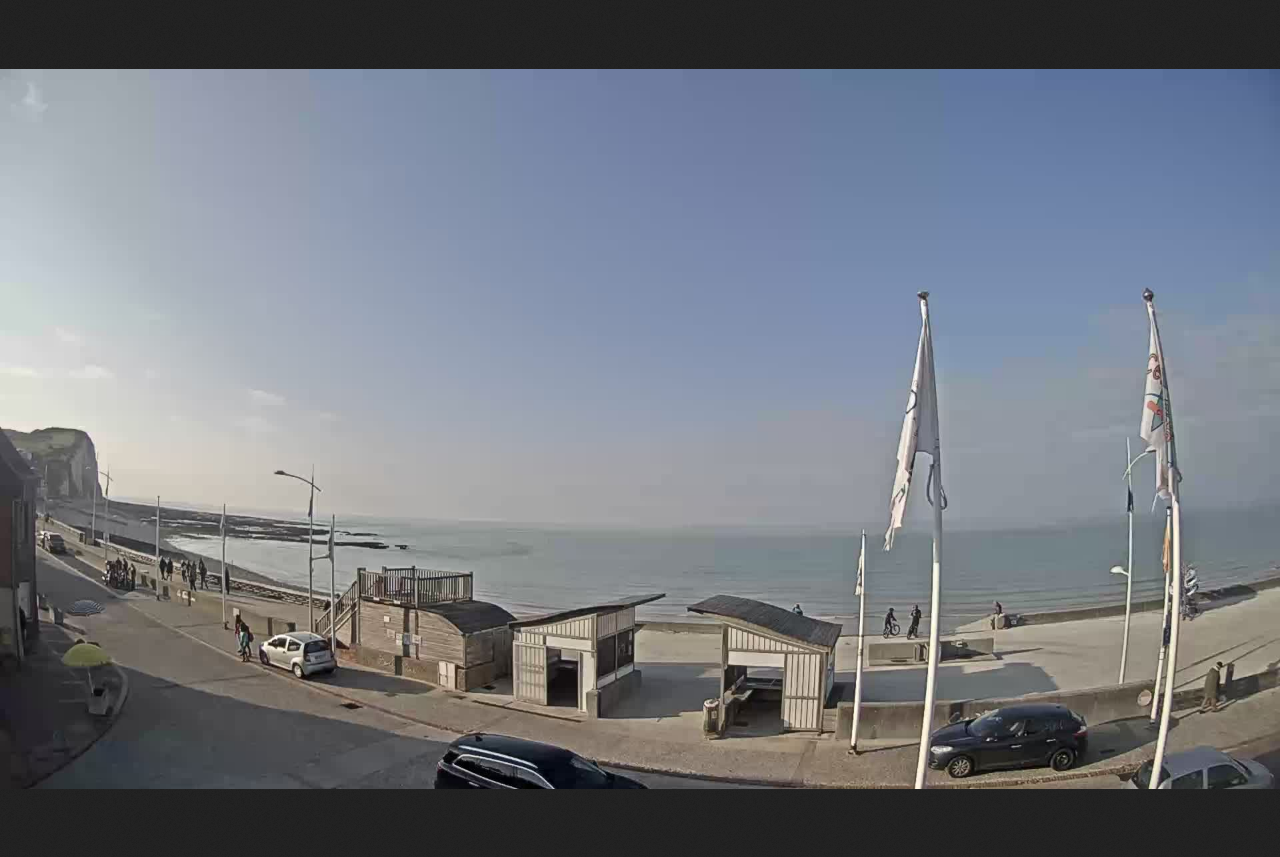maybe: (880, 294, 936, 555)
no: (1138, 304, 1187, 504), (847, 534, 869, 600), (1159, 504, 1176, 587), (322, 512, 337, 569)
